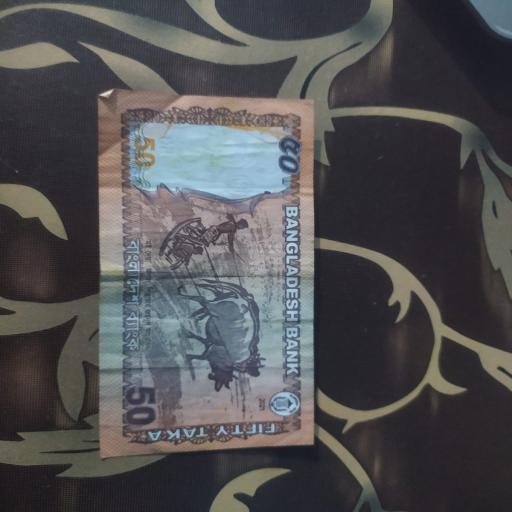50taka: (99, 89, 315, 458)
